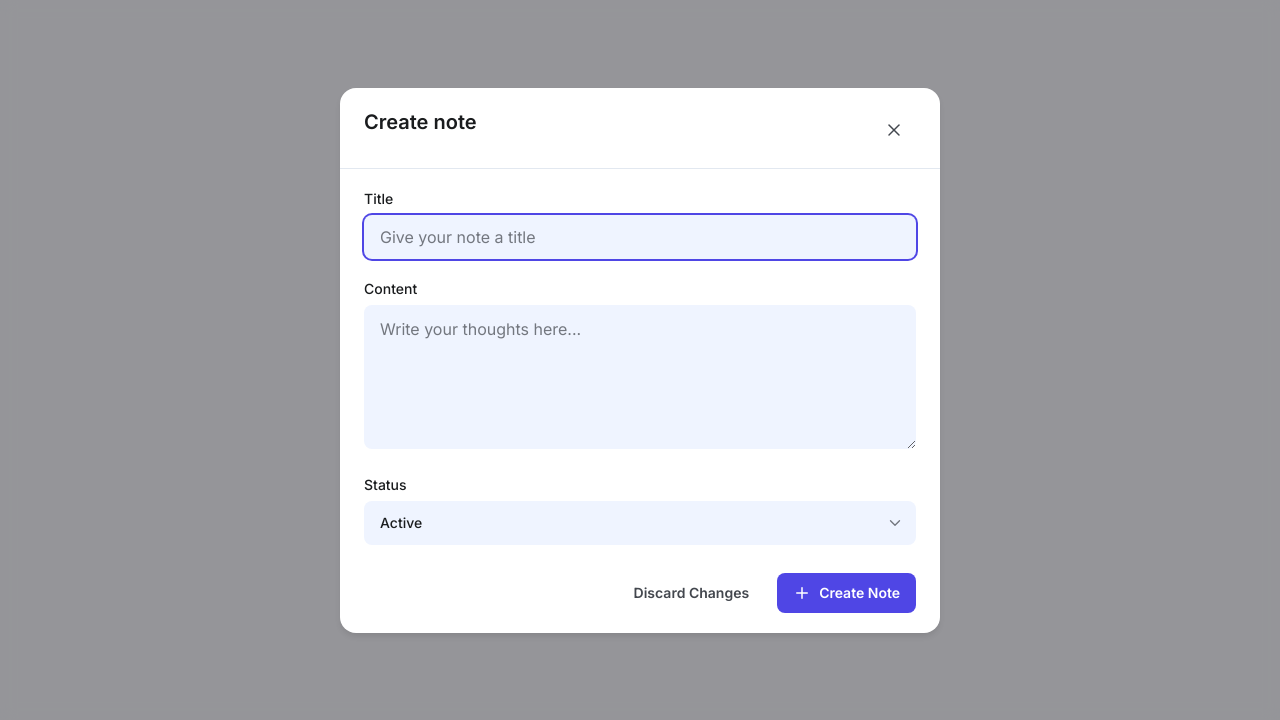
it: NoteModal validation › does not submit when the title and content are empty
This screenshot has width=1280, height=720.
Step 1. Click the button "Create Note" → (847, 592), box [777,572,916,612]
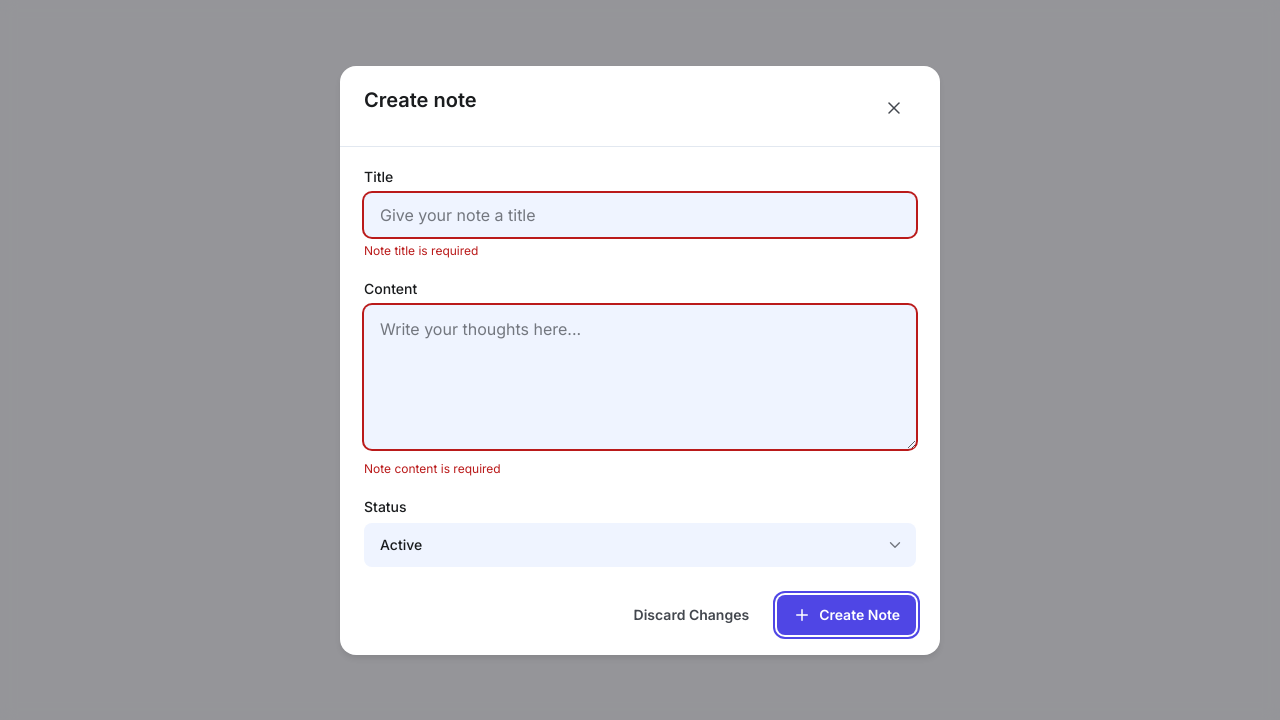
Result: the text "Note title is required" is shown at [364,242,478,258]
Result: the text "Note content is required" is shown at [364,460,501,476]
